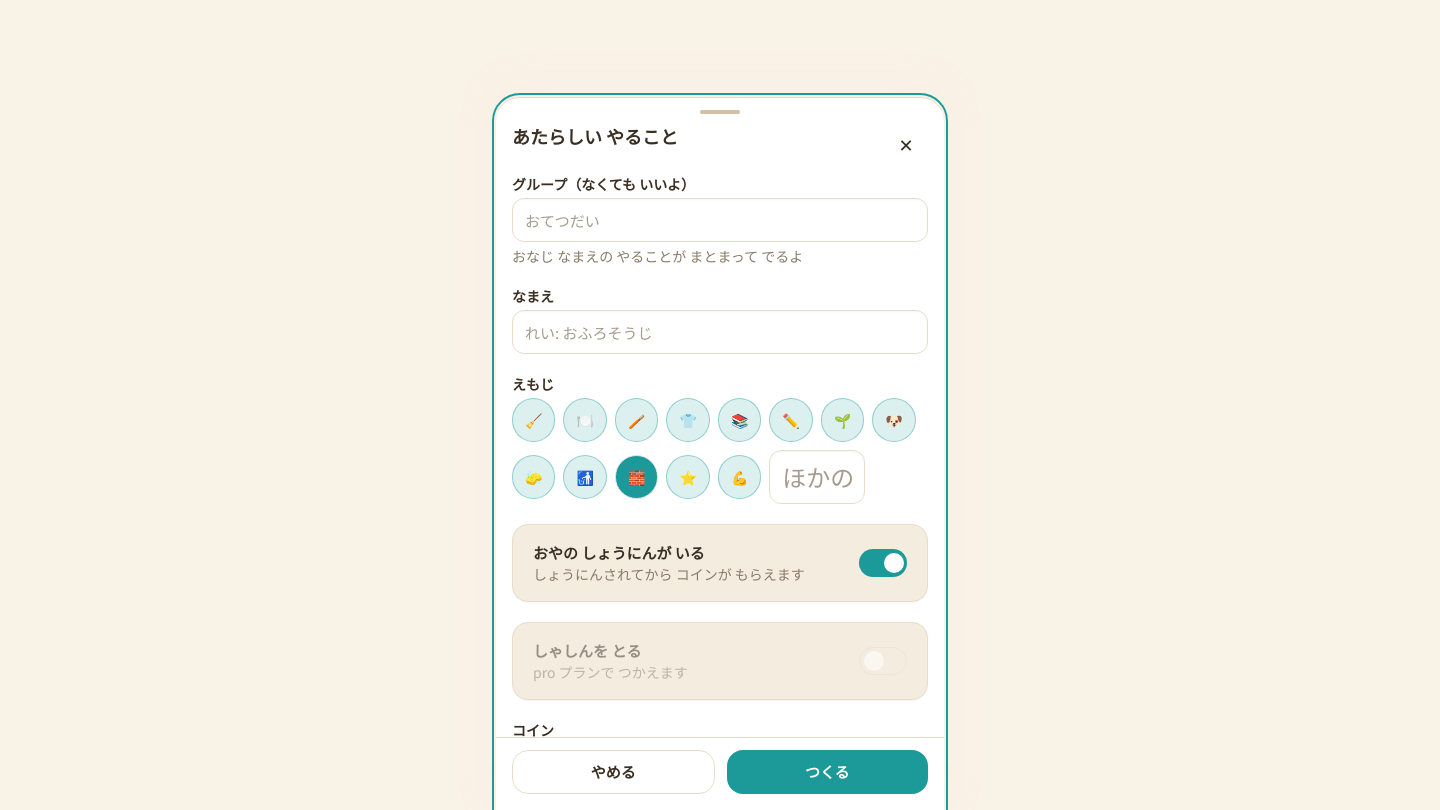
Test case: TaskEditor active period fields › rejects an end date before the start date
In the field with placeholder "れい: おふろそうじ": (720, 332) [512,310,928,354], type "べんきょう 1じかん"
(page scrolled)
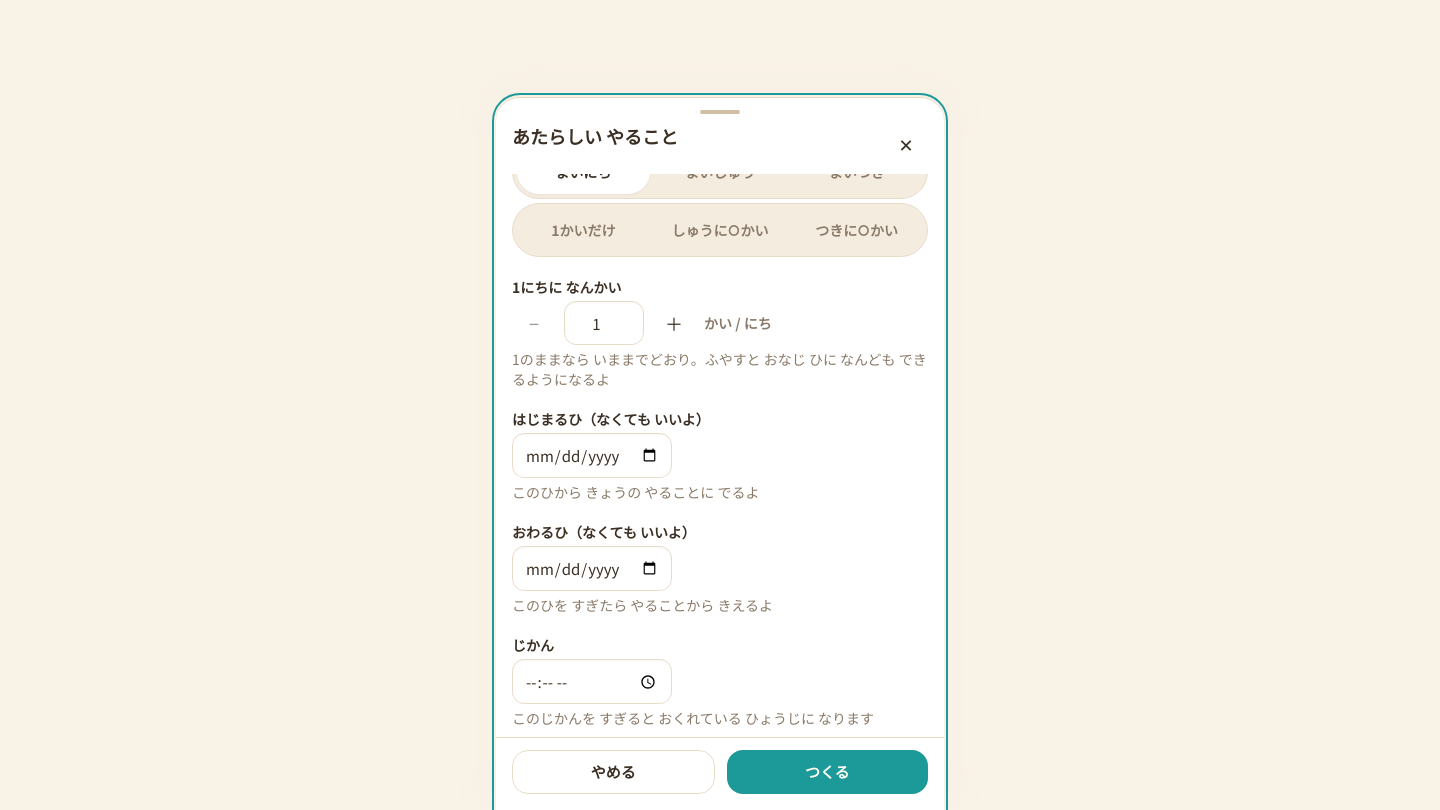
In the date field labelled "はじまるひ": (592, 456) [512,433,672,478], type "2026-09-23"
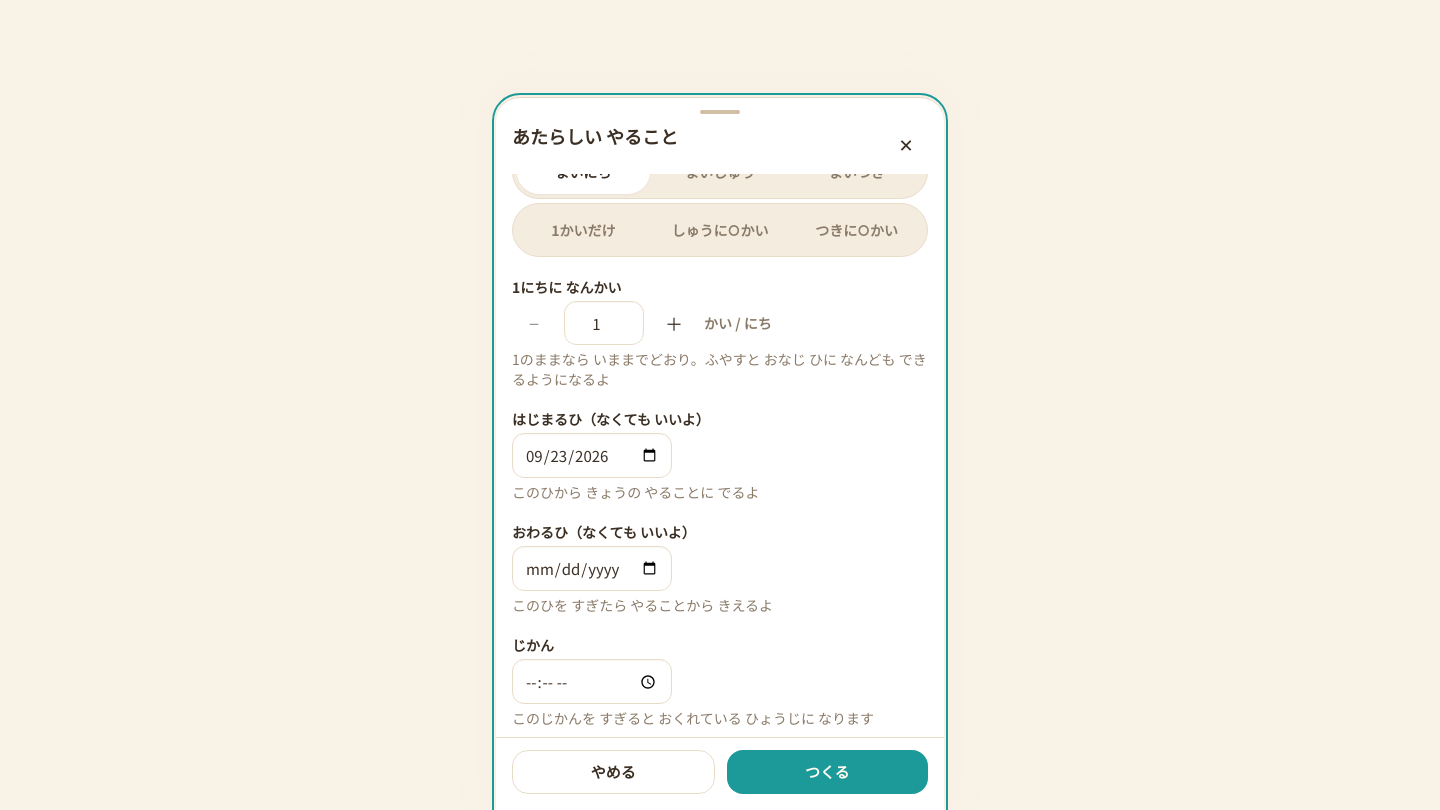
In the date field labelled "おわるひ": (592, 569) [512,546,672,591], type "2026-09-19"
(page scrolled)
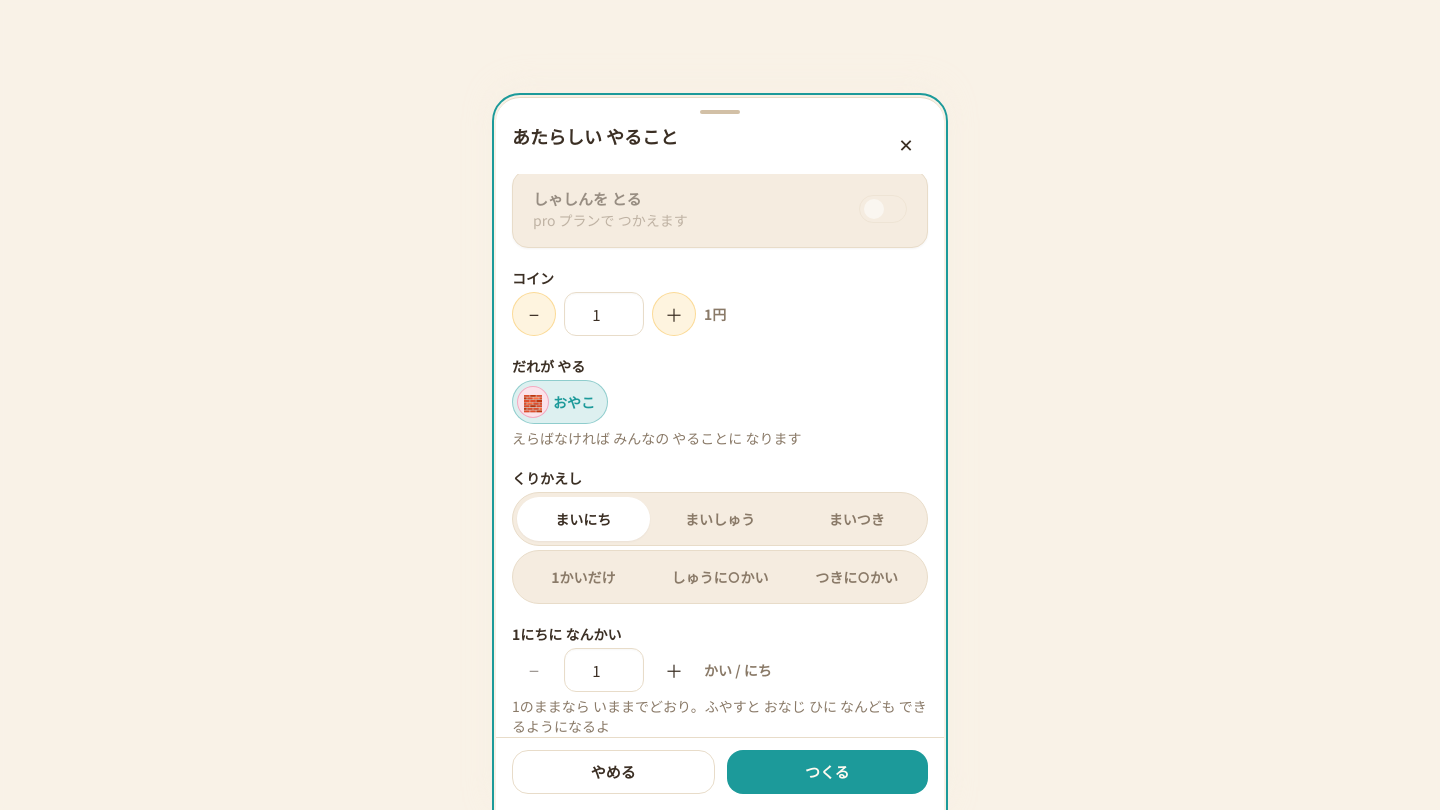
Submit the form
(page scrolled)
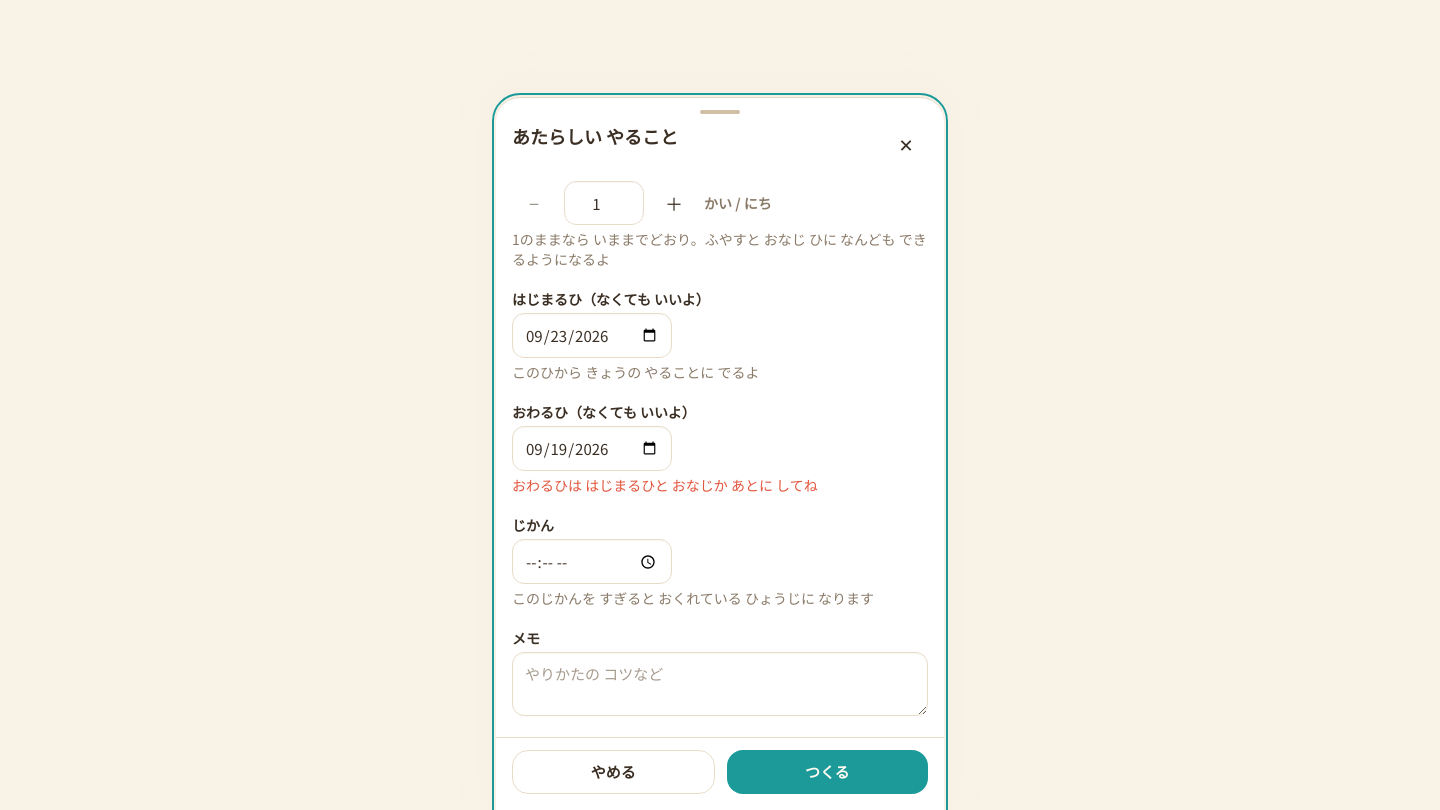
Result: the text "おわるひは はじまるひと おなじか あとに してね" is shown at [512,475,818,495]
